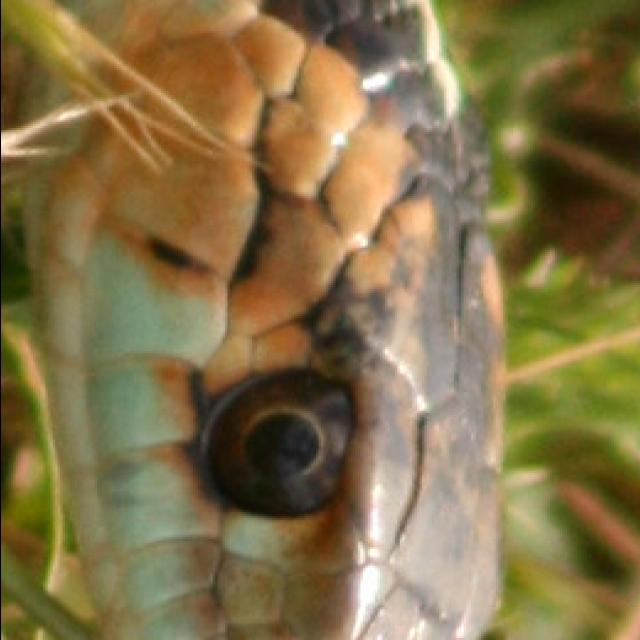Snake: (0, 0, 640, 640), (0, 0, 517, 640)
